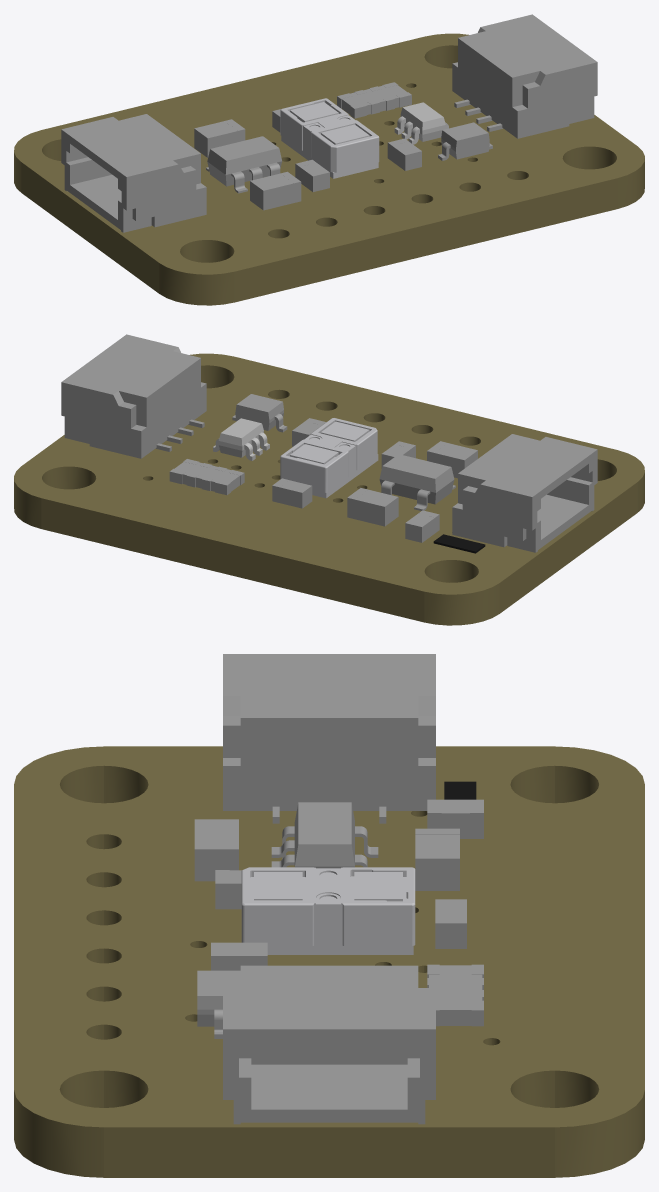
The model's file is ada-3967.glb.
The picture shows the model from 3 angles, top to bottom: view 1: azimuth 30°, elevation 25°; view 2: azimuth 150°, elevation 25°; view 3: azimuth 270°, elevation 25°; orthographic projection. The views are drawn at different scales.
Parts seen in each view (by area): view 1: 0.16666666666666666_0.16666666666666666_0.08333333333333333_, 0.3333333333333333_0.3333333333333333_0.3333333333333333_0, 0.5833333333333334_0.5833333333333334_0.5833333333333334_0.8, 0.5_0.5_0.5_0.85; view 2: 0.16666666666666666_0.16666666666666666_0.08333333333333333_, 0.3333333333333333_0.3333333333333333_0.3333333333333333_0, 0.5833333333333334_0.5833333333333334_0.5833333333333334_0.8, 0.5_0.5_0.5_0.85, 0_0_0_0; view 3: 0.16666666666666666_0.16666666666666666_0.08333333333333333_, 0.3333333333333333_0.3333333333333333_0.3333333333333333_0, 0.5833333333333334_0.5833333333333334_0.5833333333333334_0.8.
Part boxes in pixels (x1,y1,x2,y2): 0.16666666666666666_0.16666666666666666_0.08333333333333333_: (14, 33, 644, 305); 0.3333333333333333_0.3333333333333333_0.3333333333333333_0: (61, 14, 597, 232); 0.5833333333333334_0.5833333333333334_0.5833333333333334_0.8: (280, 98, 379, 178); 0.5_0.5_0.5_0.85: (394, 102, 448, 144); 0.16666666666666666_0.16666666666666666_0.08333333333333333_: (14, 353, 644, 625); 0.3333333333333333_0.3333333333333333_0.3333333333333333_0: (61, 334, 597, 552); 0.5833333333333334_0.5833333333333334_0.5833333333333334_0.8: (280, 418, 378, 498); 0.5_0.5_0.5_0.85: (213, 418, 269, 460); 0_0_0_0: (433, 534, 485, 553); 0.16666666666666666_0.16666666666666666_0.08333333333333333_: (14, 746, 644, 1177); 0.3333333333333333_0.3333333333333333_0.3333333333333333_0: (194, 654, 483, 1124); 0.5833333333333334_0.5833333333333334_0.5833333333333334_0.8: (241, 867, 415, 954).
Size of the model in its own units: 2.54 by 0.4529 by 1.78.
